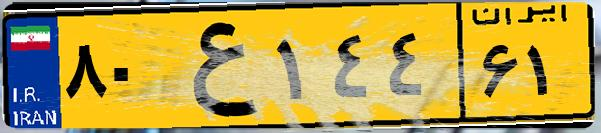0: (110, 28, 158, 98)
1: (270, 28, 330, 110), (525, 38, 570, 115)
4: (385, 28, 445, 110), (330, 28, 385, 110)
6: (475, 38, 525, 113)
8: (57, 26, 110, 100)
ع: (158, 12, 270, 120)
